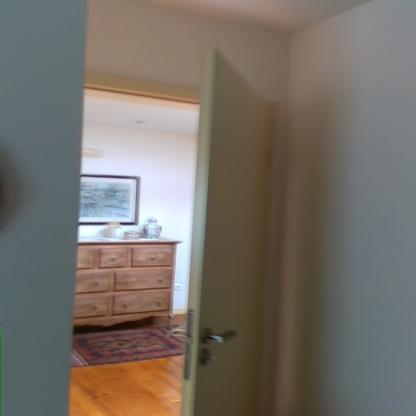semi: (67, 38, 298, 416)
